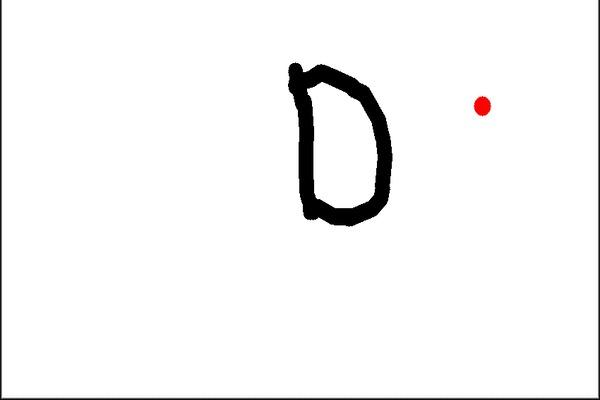D: (281, 55, 399, 228)
